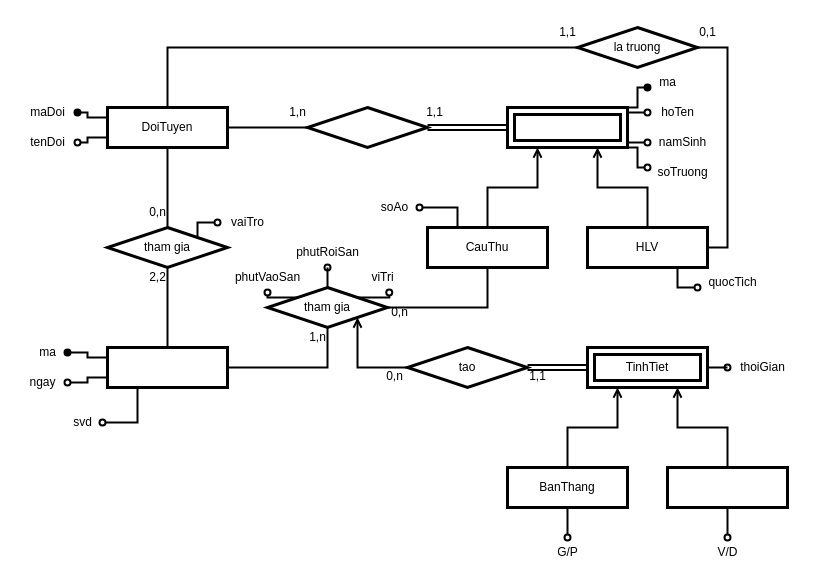
The diagram is 814 pixels wide and 584 high, and some of its shapes have lost their labels. Here are the shapes that lost their labels. From the top down, the centre of each, then its label:
At point (367, 127): "thuoc".
At point (567, 127): "ThanhVien".
At point (167, 367): "TranDau".
At point (727, 487): "ThePhat".
